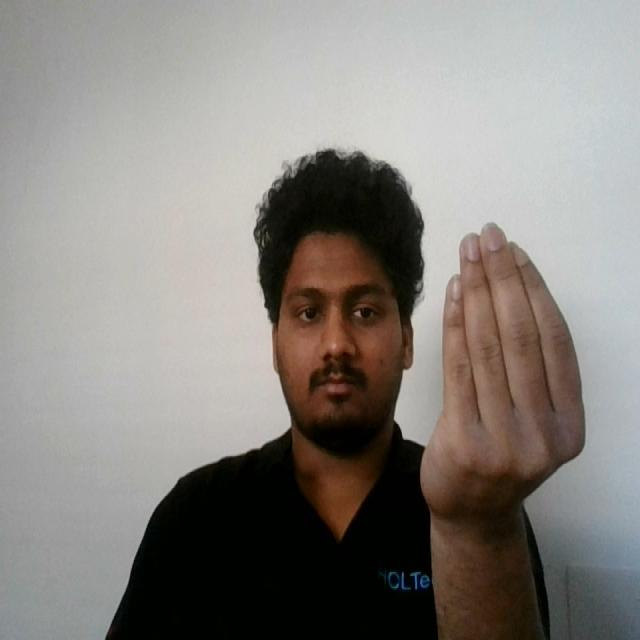Please: (414, 215, 593, 538)
